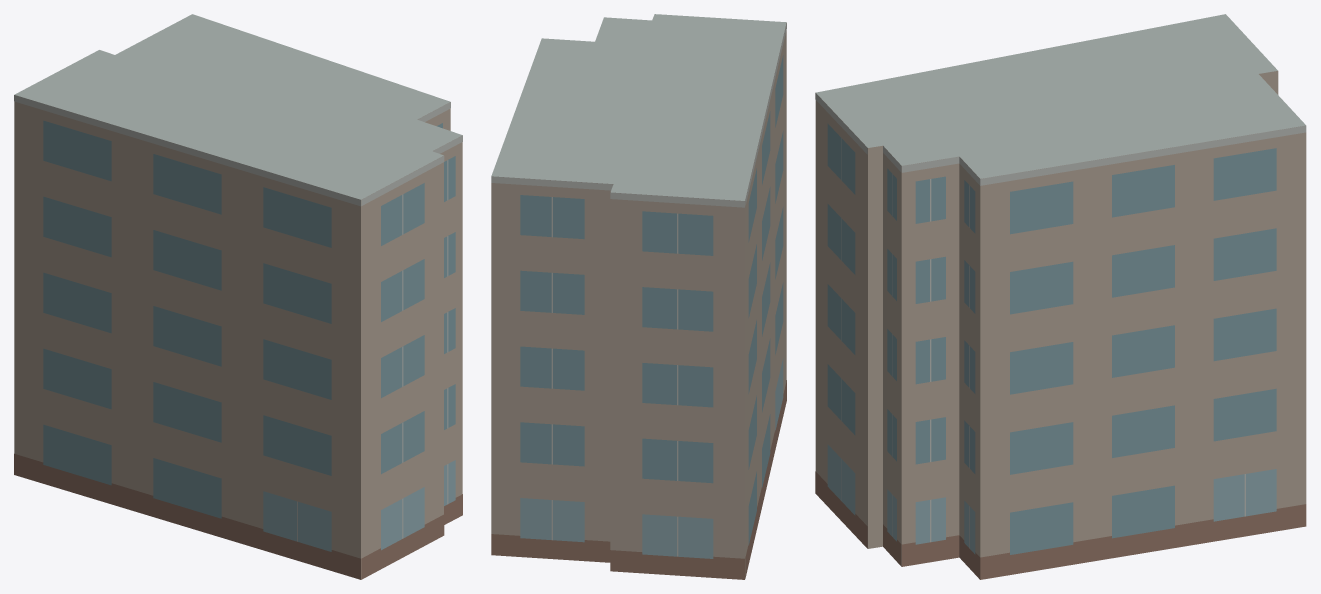
The model's file is survey-upis-32886635.glb.
3 renders of one model, left to right at view 1: azimuth 30°, elevation 25°; view 2: azimuth 150°, elevation 25°; view 3: azimuth 270°, elevation 25°, orthographic. The views are drawn at different scales.
Visible parts, largest first — view 1: survey-upis-32886635.tmp; view 2: survey-upis-32886635.tmp; view 3: survey-upis-32886635.tmp.
Boxes of the visible parts, x1=… form: survey-upis-32886635.tmp: x1=14, y1=14, x2=462, y2=579; survey-upis-32886635.tmp: x1=491, y1=14, x2=786, y2=579; survey-upis-32886635.tmp: x1=815, y1=14, x2=1306, y2=579.
Bounding box in the file's own units: 12.36 × 14 × 15.54.
